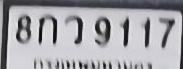1: (119, 16, 128, 46), (142, 17, 150, 47)
7: (158, 17, 174, 47)
8: (15, 14, 30, 43)
9: (94, 16, 110, 45)
A01: (37, 13, 57, 44)
A37: (64, 14, 82, 44)
